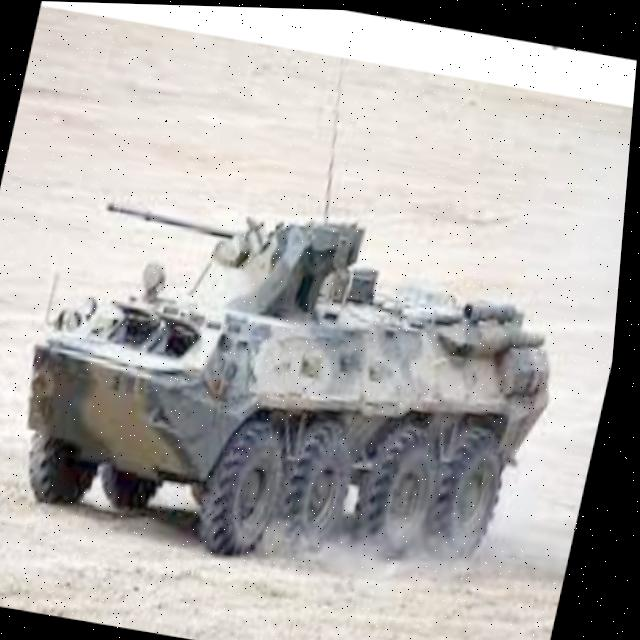MIL_APC: (0, 192, 606, 615)
